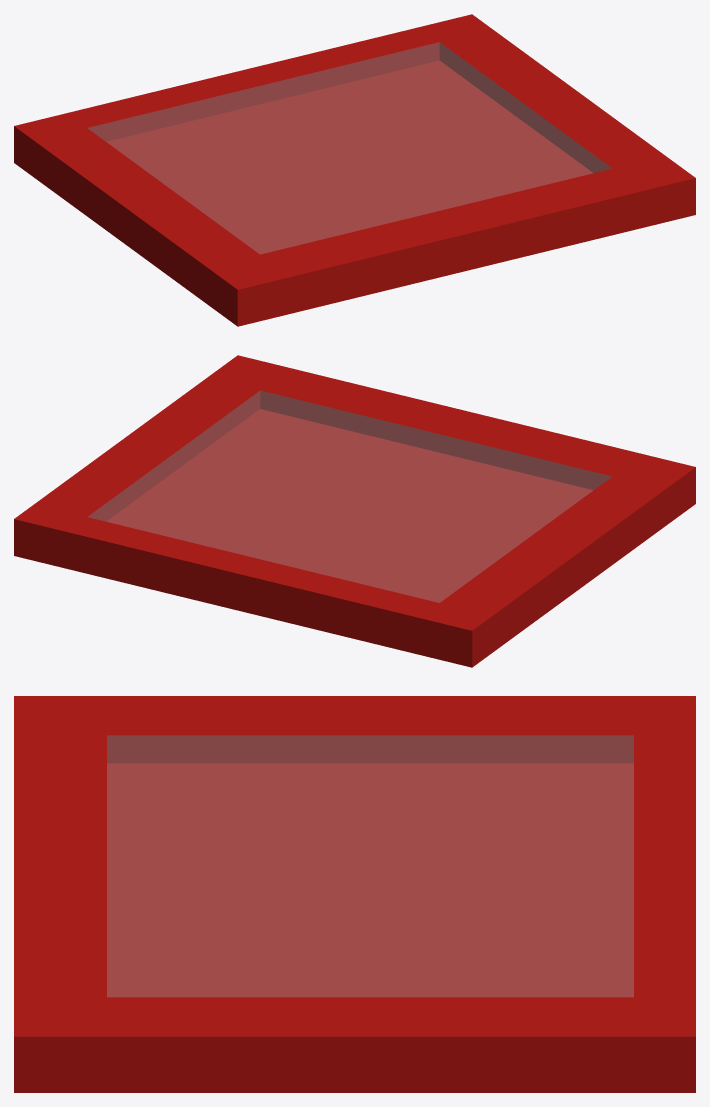
File: crashed_light_helicopter_door.glb
The picture shows the model from 3 angles, top to bottom: view 1: azimuth 30°, elevation 25°; view 2: azimuth 150°, elevation 25°; view 3: azimuth 270°, elevation 25°; orthographic projection. The views are drawn at different scales.
Visible parts, largest first — view 1: body:compound; view 2: body:compound; view 3: body:compound.
Boxes of the visible parts, bbox=[...] form: body:compound: bbox=[14, 14, 695, 326]; body:compound: bbox=[14, 355, 695, 667]; body:compound: bbox=[14, 696, 695, 1092].
Size of the model in its own units: 0.8125 by 0.0625 by 0.6875.
